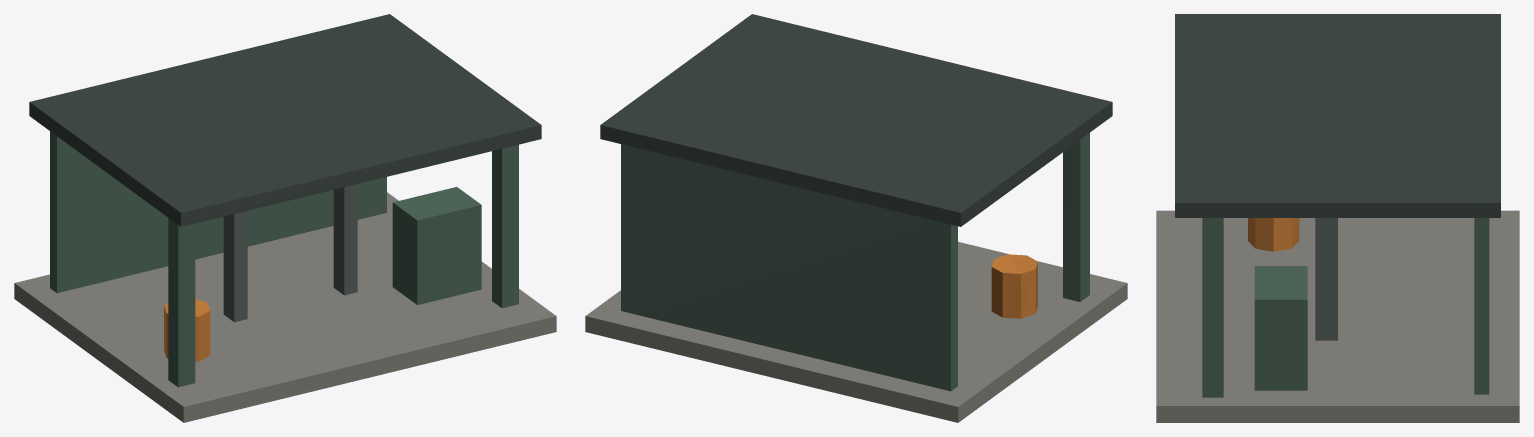
File: mechanic-garage.source.glb
The picture shows the model from 3 angles, left to right: view 1: azimuth 30°, elevation 25°; view 2: azimuth 150°, elevation 25°; view 3: azimuth 270°, elevation 25°; orthographic projection. The views are drawn at different scales.
Visible parts, largest first — view 1: mechanic-garage-garage-roof-mesh, mechanic-garage-grounded-garage-slab-mesh, mechanic-garage-garage-rear-wall-mesh, mechanic-garage-service-cabinet-mesh, mechanic-garage-garage-front-column-left-mesh, mechanic-garage-garage-front-column-right-mesh, mechanic-garage-vehicle-lift-post-right-mesh, mechanic-garage-vehicle-lift-post-left-mesh, mechanic-garage-oil-drum-mesh; view 2: mechanic-garage-garage-roof-mesh, mechanic-garage-garage-rear-wall-mesh, mechanic-garage-grounded-garage-slab-mesh, mechanic-garage-garage-front-column-left-mesh, mechanic-garage-oil-drum-mesh; view 3: mechanic-garage-garage-roof-mesh, mechanic-garage-grounded-garage-slab-mesh, mechanic-garage-service-cabinet-mesh, mechanic-garage-garage-front-column-right-mesh, mechanic-garage-garage-rear-wall-mesh, mechanic-garage-vehicle-lift-post-right-mesh, mechanic-garage-oil-drum-mesh.
Part boxes in pixels (bbox=[...]): mechanic-garage-garage-roof-mesh: bbox=[29, 14, 541, 226]; mechanic-garage-grounded-garage-slab-mesh: bbox=[14, 192, 556, 422]; mechanic-garage-garage-rear-wall-mesh: bbox=[50, 131, 386, 293]; mechanic-garage-service-cabinet-mesh: bbox=[392, 187, 481, 304]; mechanic-garage-garage-front-column-left-mesh: bbox=[168, 218, 195, 387]; mechanic-garage-garage-front-column-right-mesh: bbox=[492, 144, 518, 308]; mechanic-garage-vehicle-lift-post-right-mesh: bbox=[333, 184, 357, 295]; mechanic-garage-vehicle-lift-post-left-mesh: bbox=[223, 211, 247, 322]; mechanic-garage-oil-drum-mesh: bbox=[164, 299, 210, 361]; mechanic-garage-garage-roof-mesh: bbox=[600, 14, 1112, 226]; mechanic-garage-garage-rear-wall-mesh: bbox=[621, 144, 957, 391]; mechanic-garage-grounded-garage-slab-mesh: bbox=[585, 241, 1127, 422]; mechanic-garage-garage-front-column-left-mesh: bbox=[1063, 133, 1089, 301]; mechanic-garage-oil-drum-mesh: bbox=[991, 254, 1037, 318]; mechanic-garage-garage-roof-mesh: bbox=[1175, 14, 1500, 217]; mechanic-garage-grounded-garage-slab-mesh: bbox=[1156, 210, 1519, 422]; mechanic-garage-service-cabinet-mesh: bbox=[1254, 266, 1307, 390]; mechanic-garage-garage-front-column-right-mesh: bbox=[1202, 218, 1223, 397]; mechanic-garage-garage-rear-wall-mesh: bbox=[1474, 218, 1489, 394]; mechanic-garage-vehicle-lift-post-right-mesh: bbox=[1315, 218, 1337, 340]; mechanic-garage-oil-drum-mesh: bbox=[1248, 218, 1299, 251].
Bounding box in the file's own units: 6.1 × 3.16 × 4.8.
